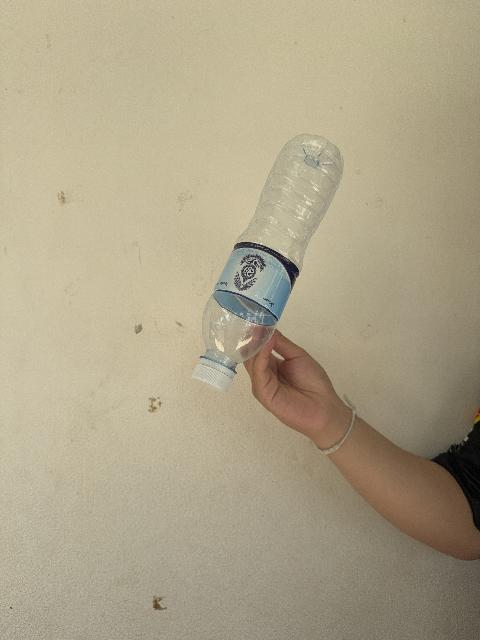bottle: (193, 135, 343, 391)
